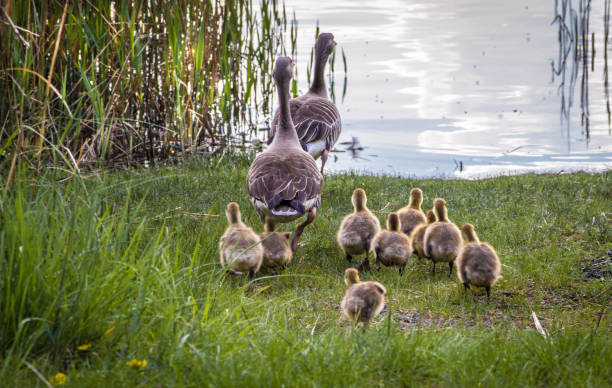goose: (251, 55, 320, 243), (282, 31, 350, 156)
